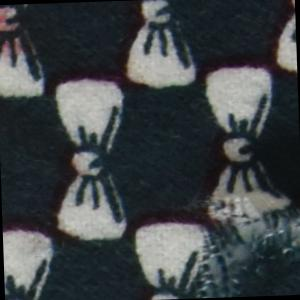Damage: (179, 187, 300, 300)
Stain: (1, 5, 32, 62)
